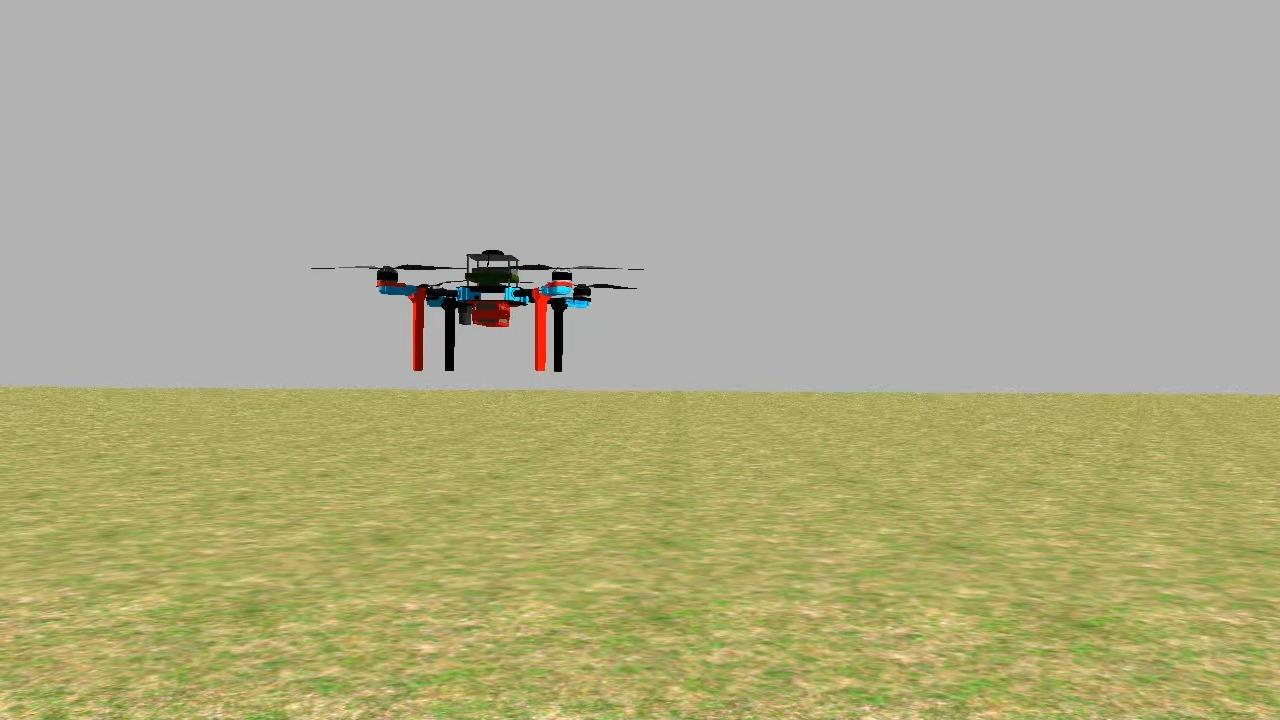UAV: (368, 240, 600, 380)
